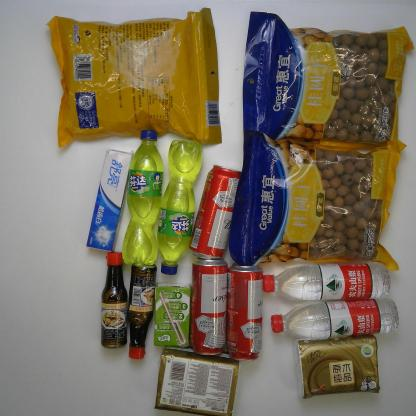Alcohol: (188, 164, 243, 261), (189, 260, 229, 358), (226, 263, 265, 362)
Dried Food: (44, 7, 223, 149), (228, 137, 406, 272), (242, 11, 414, 144)
Drink: (155, 140, 205, 276), (121, 127, 164, 266), (268, 299, 402, 342), (262, 262, 392, 300)
Milk: (151, 282, 192, 350)
Personal Hygiene: (84, 150, 132, 254)
Seasoner: (99, 252, 131, 350), (125, 262, 157, 360)
Tissue: (154, 351, 241, 415), (297, 336, 382, 398)
